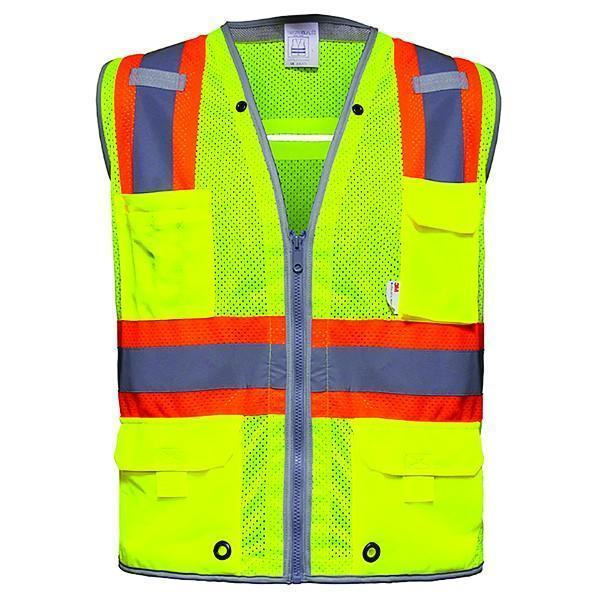Glass: (86, 18, 505, 577)
